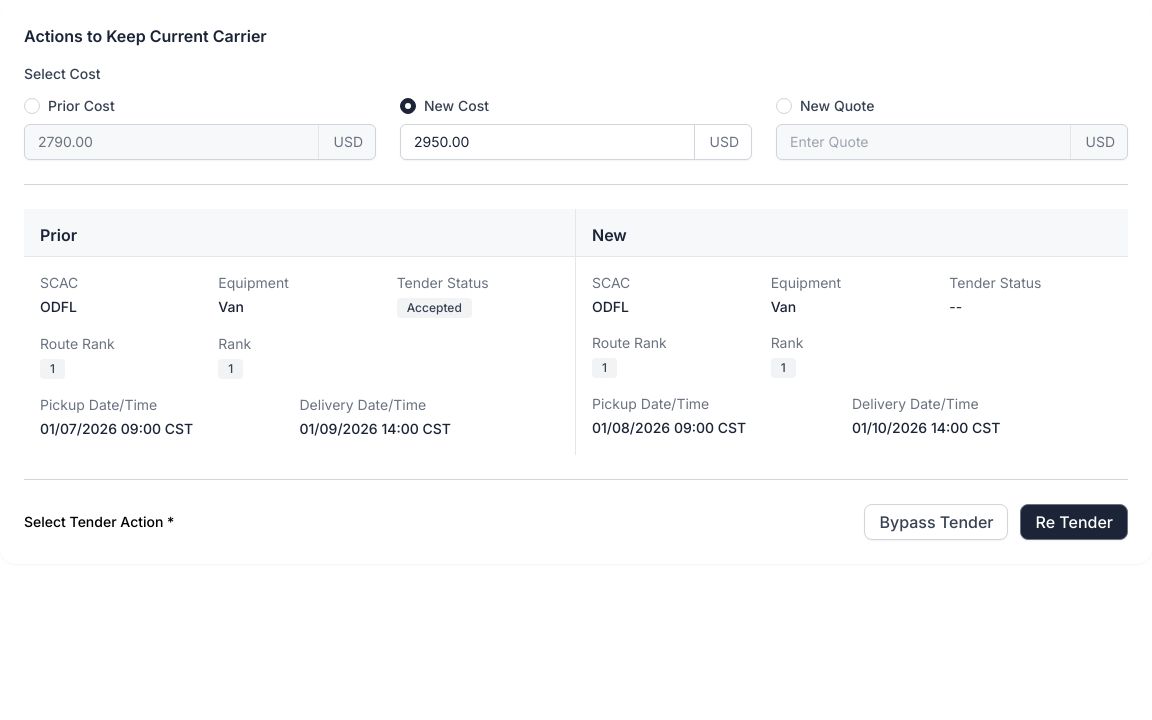
OrderChangeActionsCard — New Quote cancel reverts the radio › close-without-save restores the previous selection; a saved quote keeps it
Check: the radio button labelled "New Cost" is checked, box [400, 98, 416, 114]
Click the radio button labelled "New Quote" at (784, 106), box [776, 98, 792, 114]
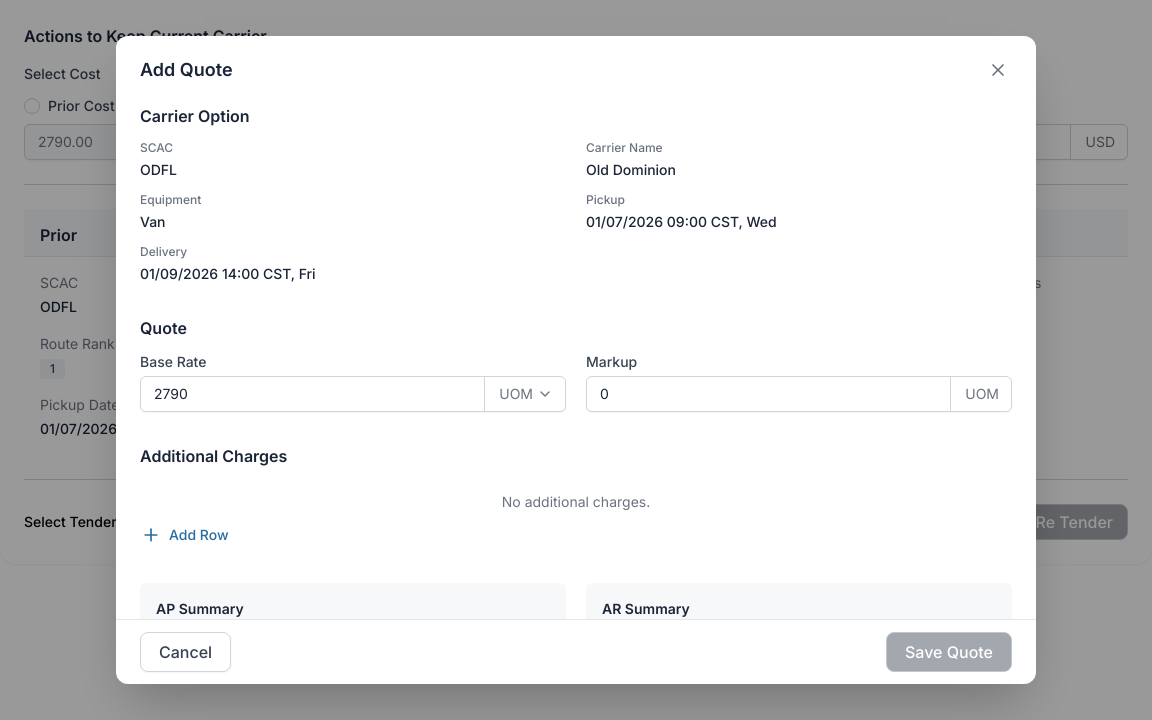
# …then dismissed with nothing saved.
Click the button named "Close" at (998, 70), box [984, 56, 1012, 84]
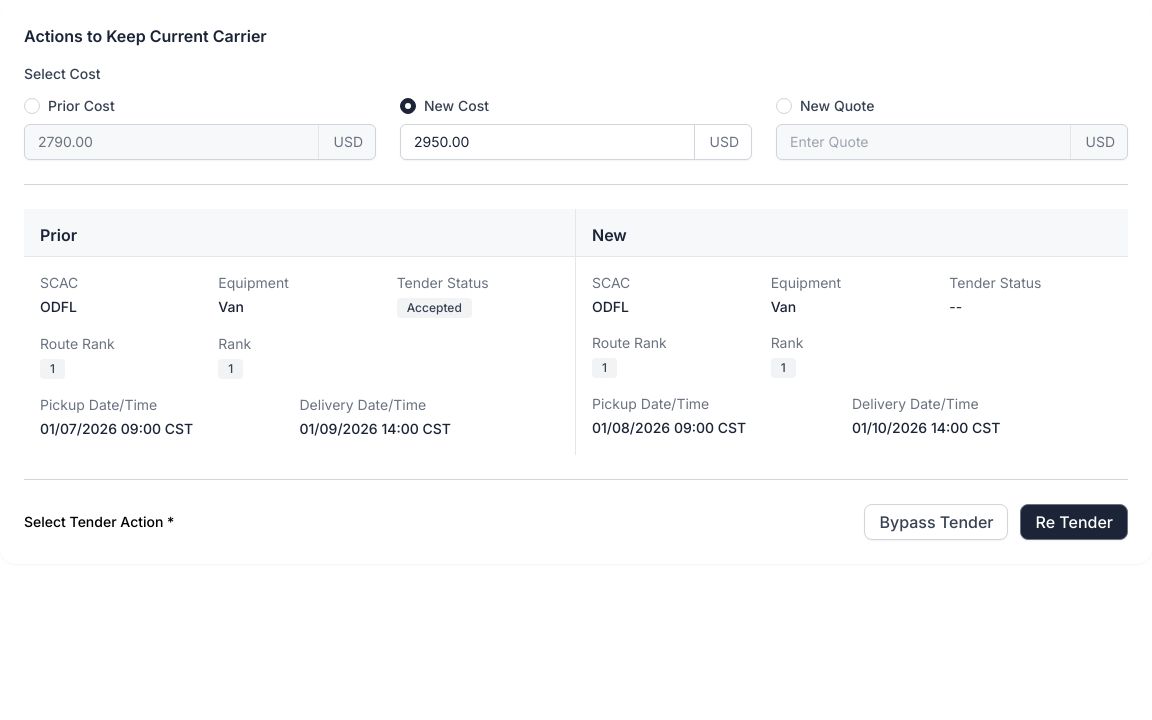
Check: the radio button labelled "New Quote" is not checked, box [776, 98, 792, 114]
Check: the radio button labelled "New Cost" is checked, box [400, 98, 416, 114]
